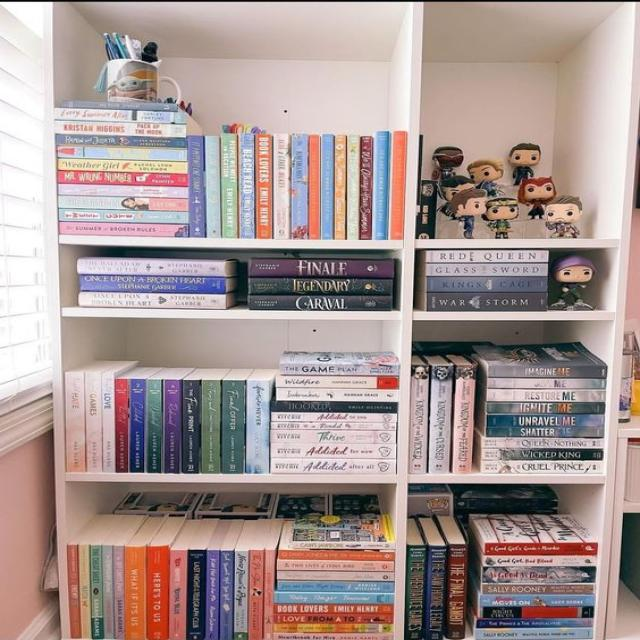book: (248, 258, 394, 277), (452, 364, 477, 474), (76, 259, 226, 277), (78, 275, 226, 293), (429, 364, 453, 473), (77, 292, 227, 309), (250, 278, 393, 295), (409, 364, 430, 474), (426, 292, 547, 311), (54, 121, 187, 138), (247, 295, 393, 310), (56, 158, 189, 174), (64, 372, 85, 472), (247, 380, 269, 474), (147, 546, 169, 640), (223, 381, 245, 472), (271, 458, 396, 474), (56, 146, 189, 161), (405, 545, 426, 640), (446, 544, 467, 639), (57, 171, 189, 186), (54, 108, 186, 123), (58, 196, 189, 211), (125, 547, 146, 640), (59, 209, 189, 224), (60, 222, 189, 237), (59, 184, 188, 199), (84, 372, 103, 472), (426, 546, 446, 640), (55, 134, 188, 148), (188, 135, 206, 237), (482, 567, 595, 583), (239, 134, 256, 238), (256, 134, 273, 238), (202, 381, 221, 474), (270, 430, 396, 444), (270, 444, 396, 458), (426, 278, 548, 292), (163, 379, 181, 473), (222, 134, 238, 239), (274, 134, 290, 239), (292, 134, 308, 239), (182, 380, 200, 473), (188, 550, 206, 640), (206, 136, 222, 237), (426, 264, 548, 277), (488, 365, 607, 378), (270, 401, 398, 413), (277, 580, 395, 593), (170, 550, 187, 640), (374, 131, 388, 239), (276, 389, 401, 401), (275, 376, 400, 388), (480, 461, 603, 473), (481, 449, 604, 461), (146, 380, 162, 472), (426, 250, 548, 262), (279, 363, 400, 375), (485, 402, 605, 414), (487, 389, 606, 401), (480, 594, 595, 606), (391, 132, 404, 238), (481, 437, 604, 448), (321, 134, 334, 238), (486, 543, 598, 555), (360, 136, 373, 239), (67, 544, 81, 639), (474, 628, 594, 639), (274, 593, 394, 604), (487, 378, 606, 389), (115, 379, 129, 472), (475, 618, 593, 629), (276, 560, 394, 571), (488, 415, 605, 426), (249, 550, 263, 640), (483, 555, 597, 566), (480, 607, 594, 618), (334, 134, 346, 238), (348, 135, 360, 239), (308, 135, 320, 238), (131, 378, 144, 472), (102, 372, 114, 472), (274, 614, 394, 624), (485, 427, 604, 437), (274, 623, 393, 633), (205, 549, 218, 640), (278, 550, 395, 560), (234, 550, 247, 640), (220, 550, 233, 640), (271, 413, 398, 422), (481, 584, 594, 594), (79, 545, 91, 639), (90, 546, 102, 640), (274, 604, 394, 613), (277, 571, 395, 580), (113, 545, 124, 640), (104, 545, 114, 640), (264, 550, 274, 640), (272, 422, 396, 429), (275, 633, 394, 640), (290, 541, 394, 549)
